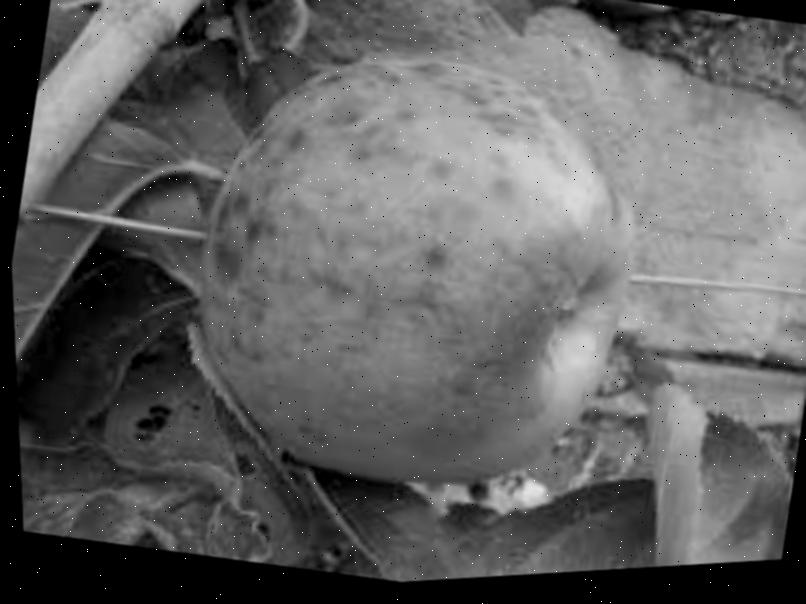BLOTCH: (124, 0, 677, 540)
